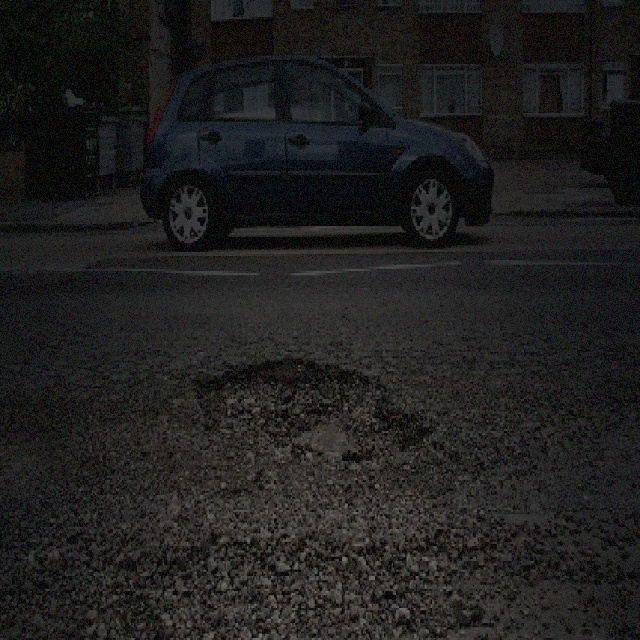pothole: (191, 352, 434, 467)
